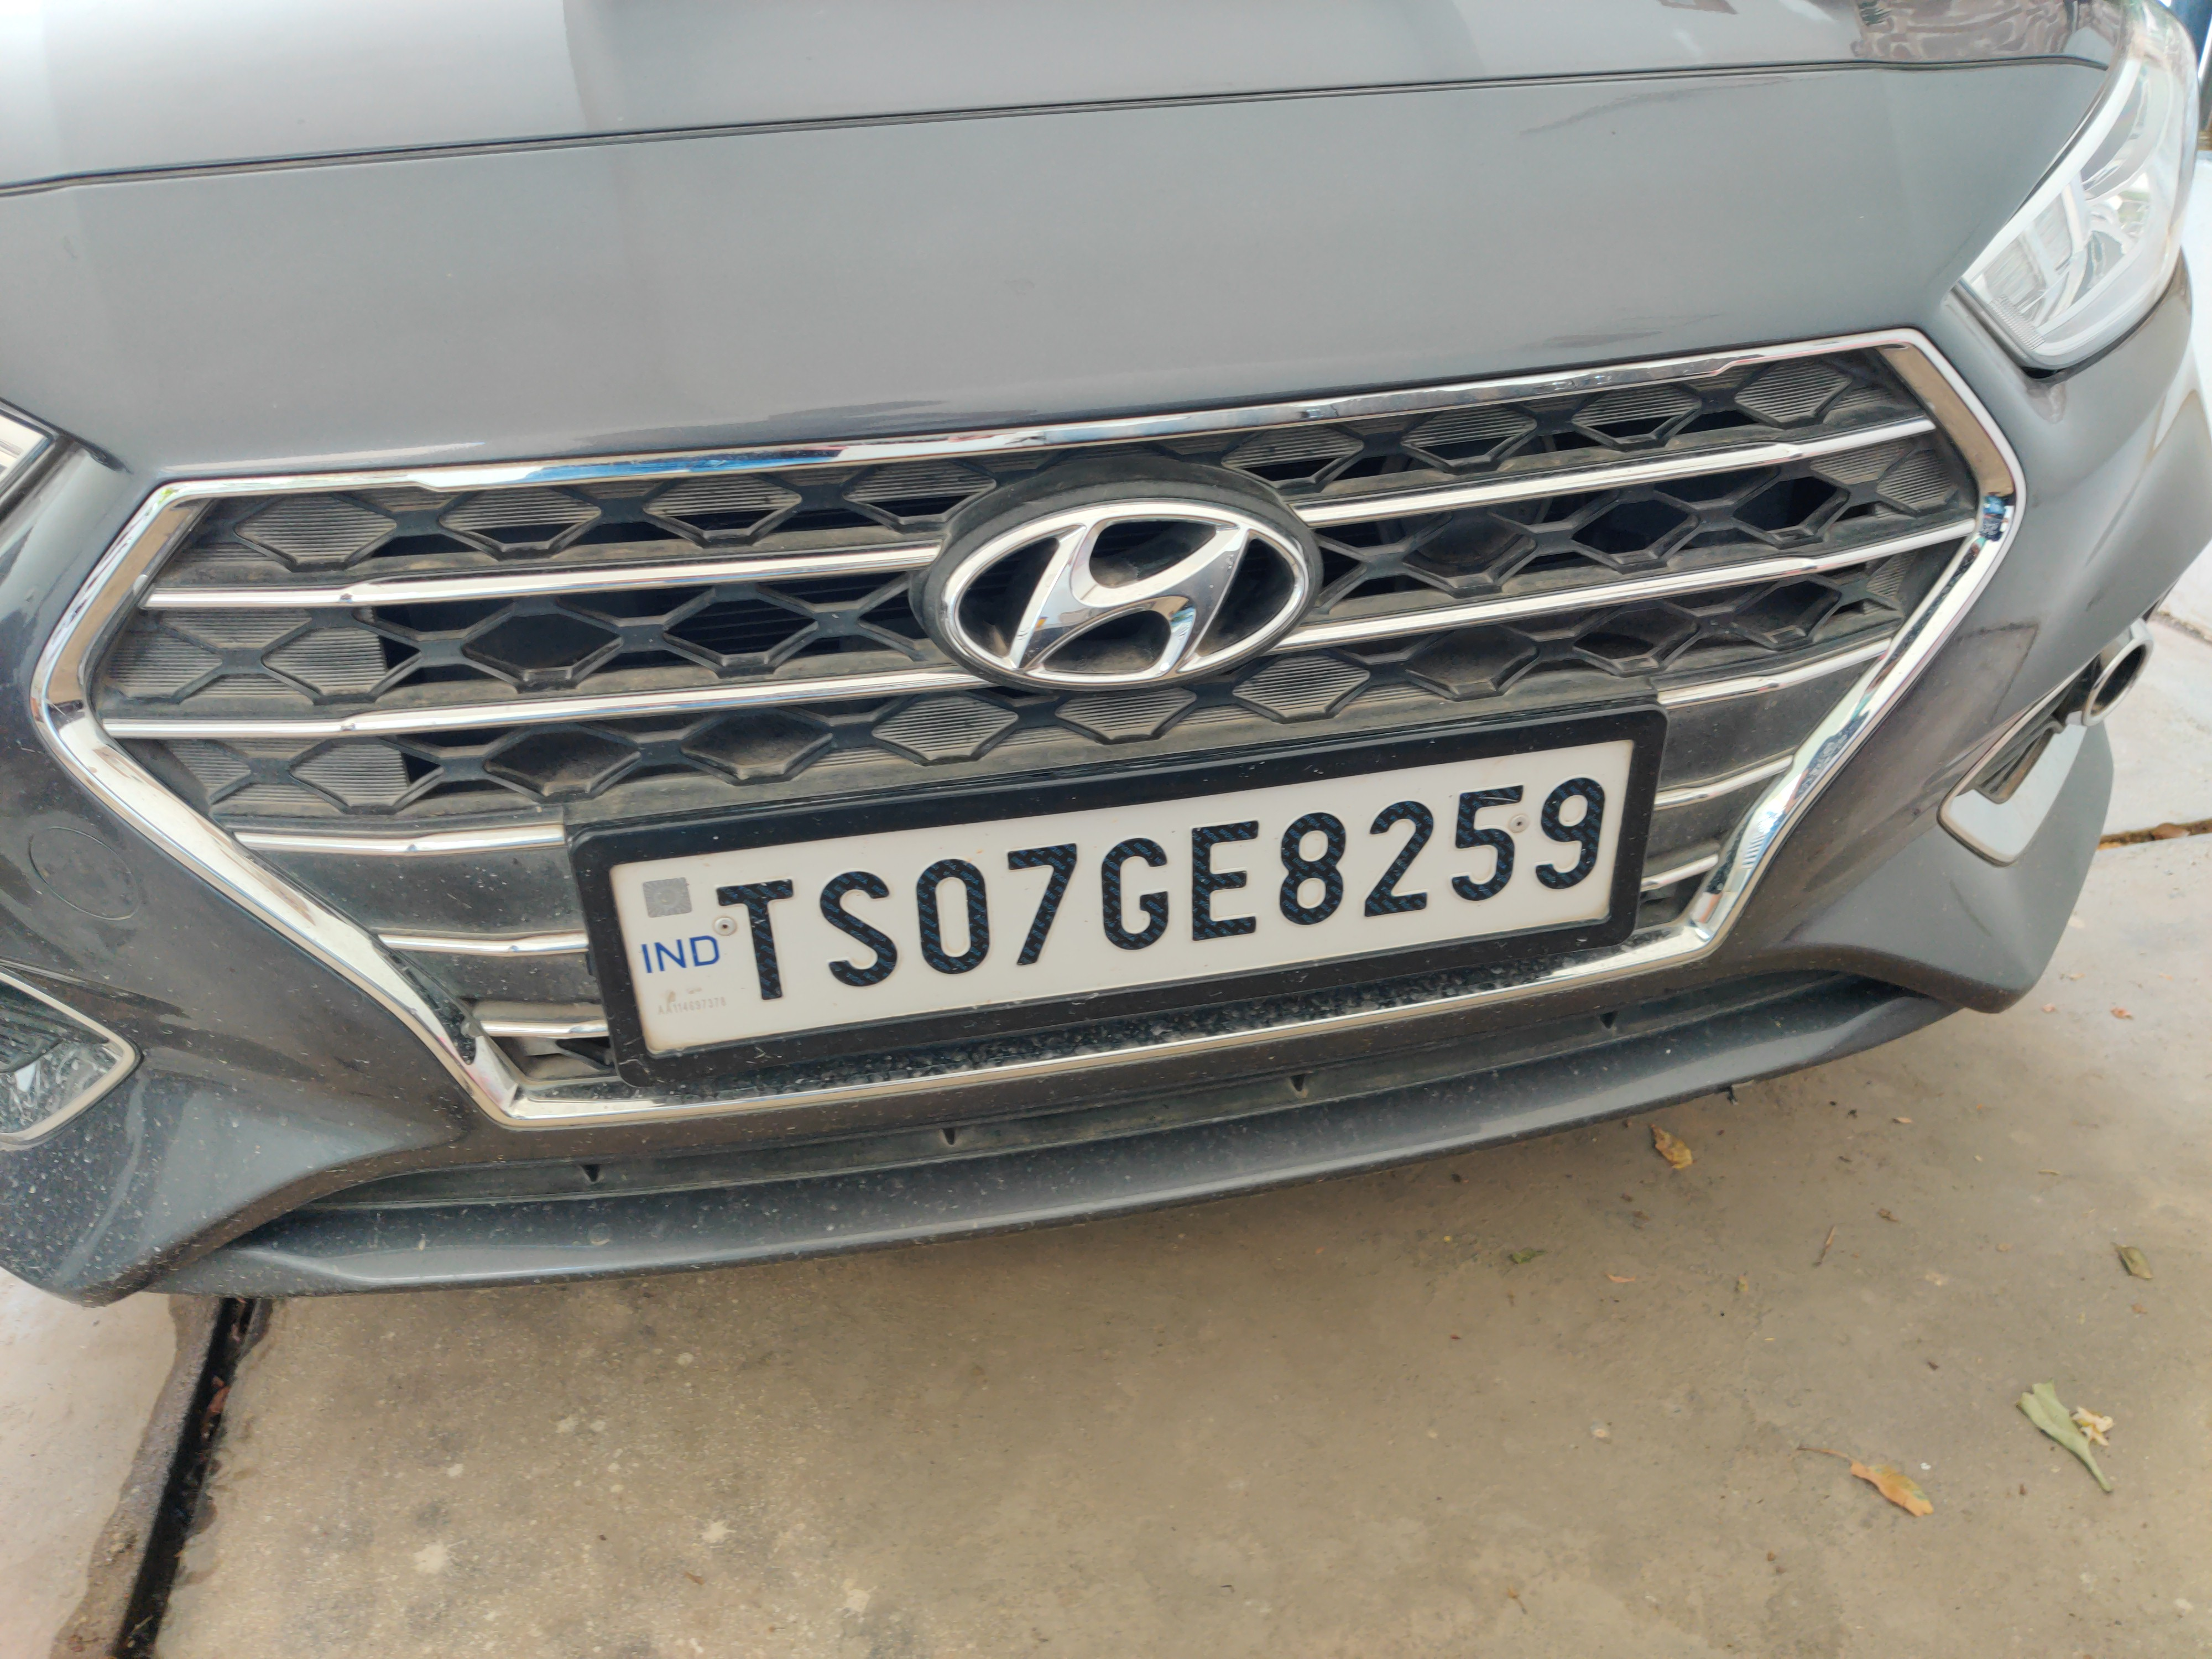plate: (535, 679, 1687, 1108)
